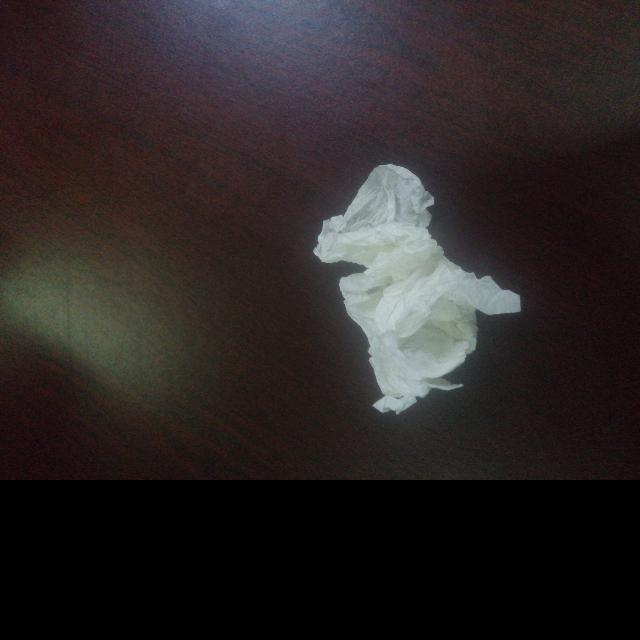kitchen paper: (311, 158, 531, 422)
